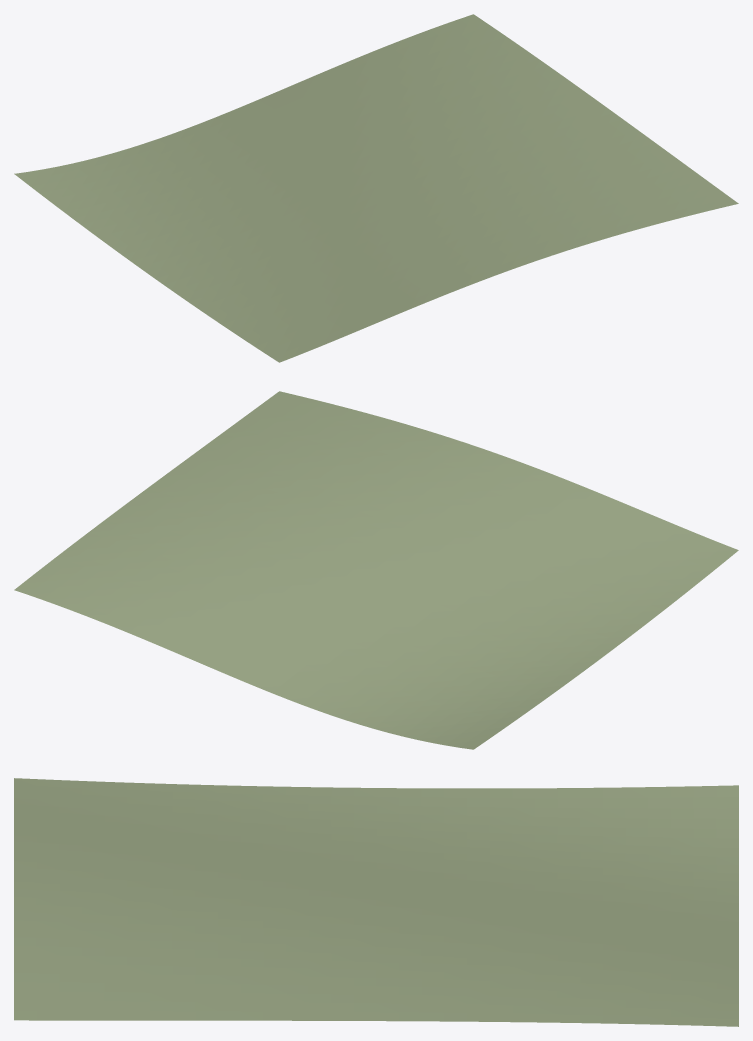
File: expanse-6-27.glb
3 views of the same model, one above another, from view 1: azimuth 30°, elevation 25°; view 2: azimuth 150°, elevation 25°; view 3: azimuth 270°, elevation 25° (orthographic). The views are drawn at different scales.
Parts seen in each view (by area): view 1: expanse-6-27; view 2: expanse-6-27; view 3: expanse-6-27.
Part boxes in pixels (box(x1,y1,x2,y2)): expanse-6-27: box(14, 14, 738, 362); expanse-6-27: box(14, 391, 738, 749); expanse-6-27: box(14, 778, 738, 1026).
Size of the model in its own units: 256 by 30.02 by 256.
